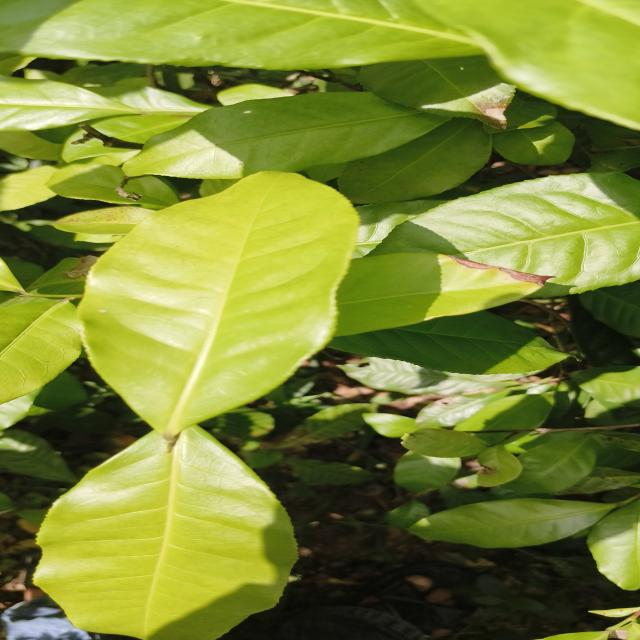Leaf: (78, 171, 359, 437), (34, 426, 296, 640), (0, 0, 482, 69), (372, 173, 640, 295), (124, 92, 446, 179), (422, 0, 640, 128), (334, 251, 542, 336), (327, 311, 568, 375), (338, 118, 491, 203), (358, 56, 515, 133), (409, 498, 614, 548), (0, 298, 81, 403), (338, 357, 535, 395), (0, 77, 137, 131), (506, 435, 596, 493), (587, 502, 640, 590), (276, 403, 373, 448), (0, 430, 77, 484), (454, 393, 552, 431), (47, 164, 134, 206), (89, 86, 210, 116), (493, 122, 574, 166), (578, 281, 640, 338), (417, 389, 508, 427), (53, 206, 154, 235), (570, 366, 640, 407), (394, 451, 460, 492), (0, 166, 57, 212), (91, 115, 181, 144), (402, 428, 488, 457), (62, 131, 139, 163), (284, 458, 374, 485), (201, 408, 274, 441), (477, 445, 522, 486), (127, 176, 179, 209), (362, 413, 419, 438), (386, 500, 430, 528)
